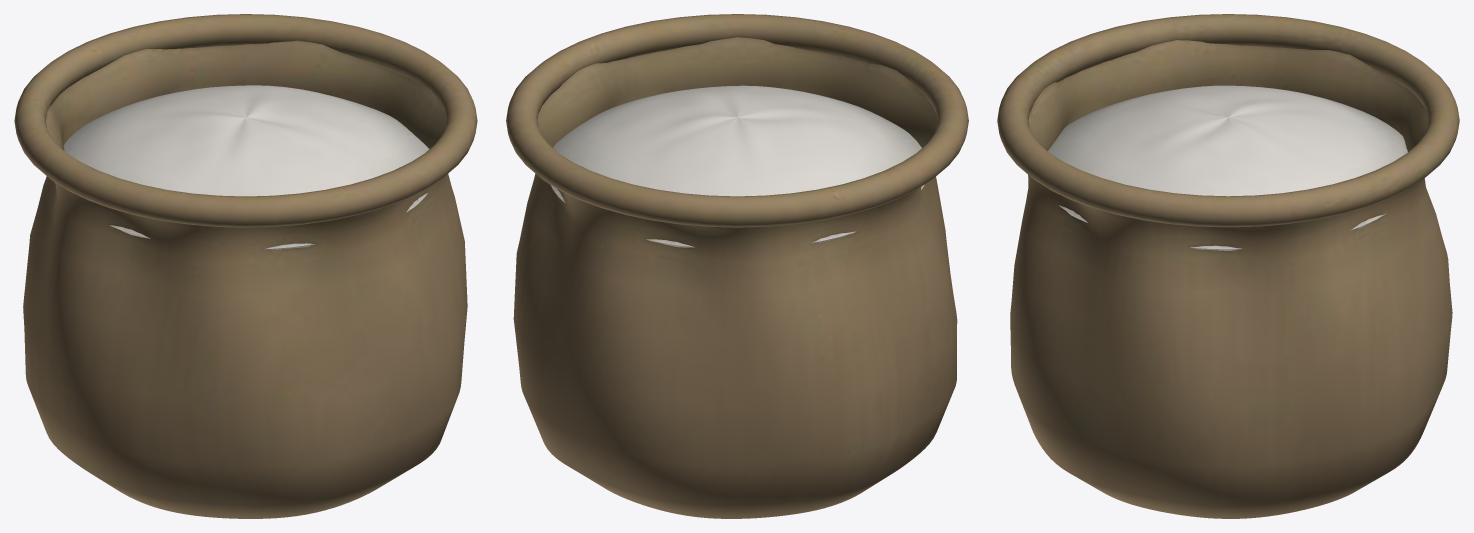
The model's file is salt_sack.glb.
3 views of the same model, side by side, from view 1: azimuth 30°, elevation 25°; view 2: azimuth 150°, elevation 25°; view 3: azimuth 270°, elevation 25° (orthographic).
Parts seen in each view (by area): view 1: salt_sack; view 2: salt_sack; view 3: salt_sack.
Boxes of the visible parts, x1,y1,x2,y2 form: salt_sack: (14, 14, 477, 518); salt_sack: (506, 14, 968, 518); salt_sack: (997, 14, 1459, 518).
Bounding box in the file's own units: 0.236 × 0.2074 × 0.236.
1 material, 1 textured.
